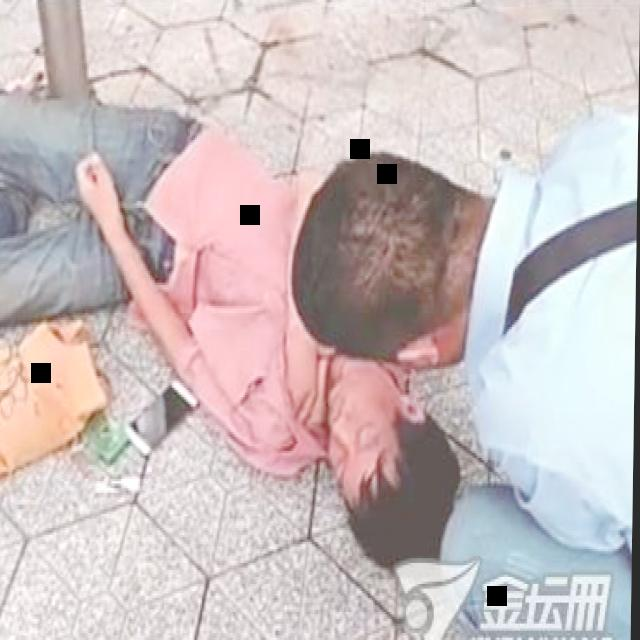Fall-Detected: (0, 54, 437, 630)
